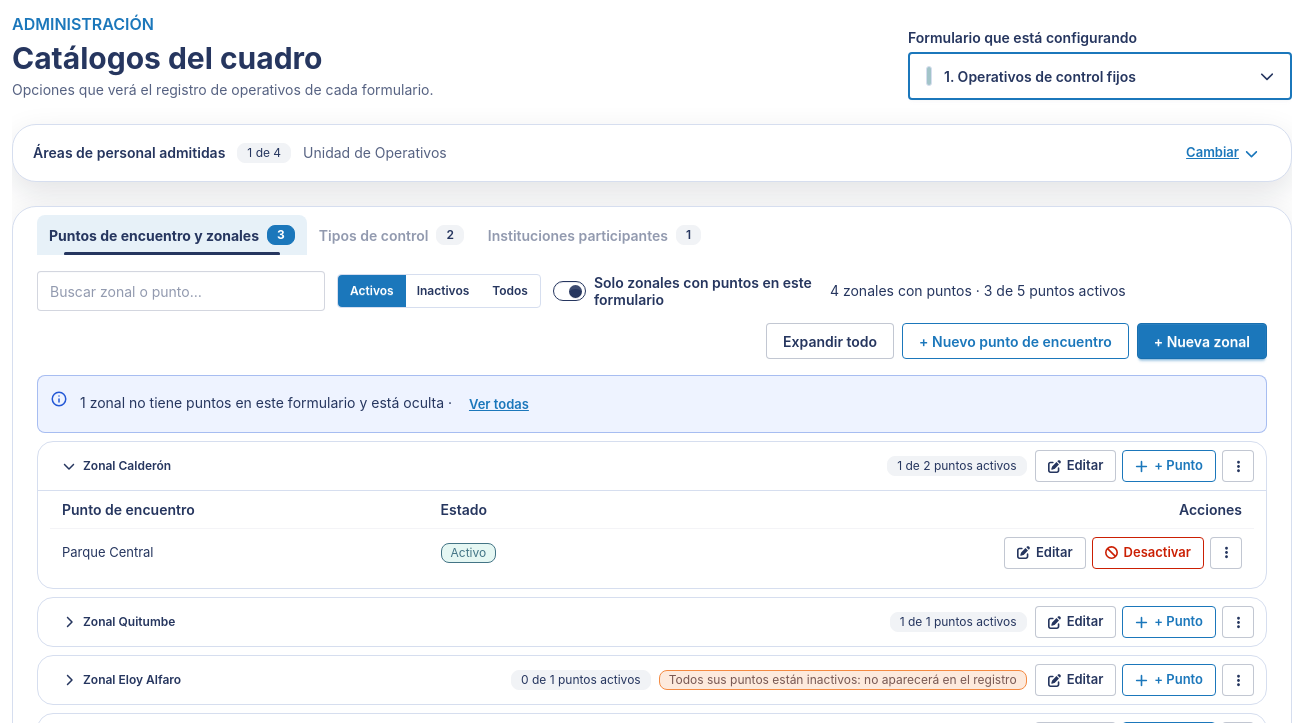
Test: acordeón de zonales › al buscar se abren las zonales con puntos que coinciden
The width and height of the screenshot is (1304, 723).
Expected: the text "Zonal Calderón" is shown, 83,457 -> 171,475
Type "estacion" into the search field labelled "Buscar zonal o punto…" at (181, 291), box 37,271 -> 325,311
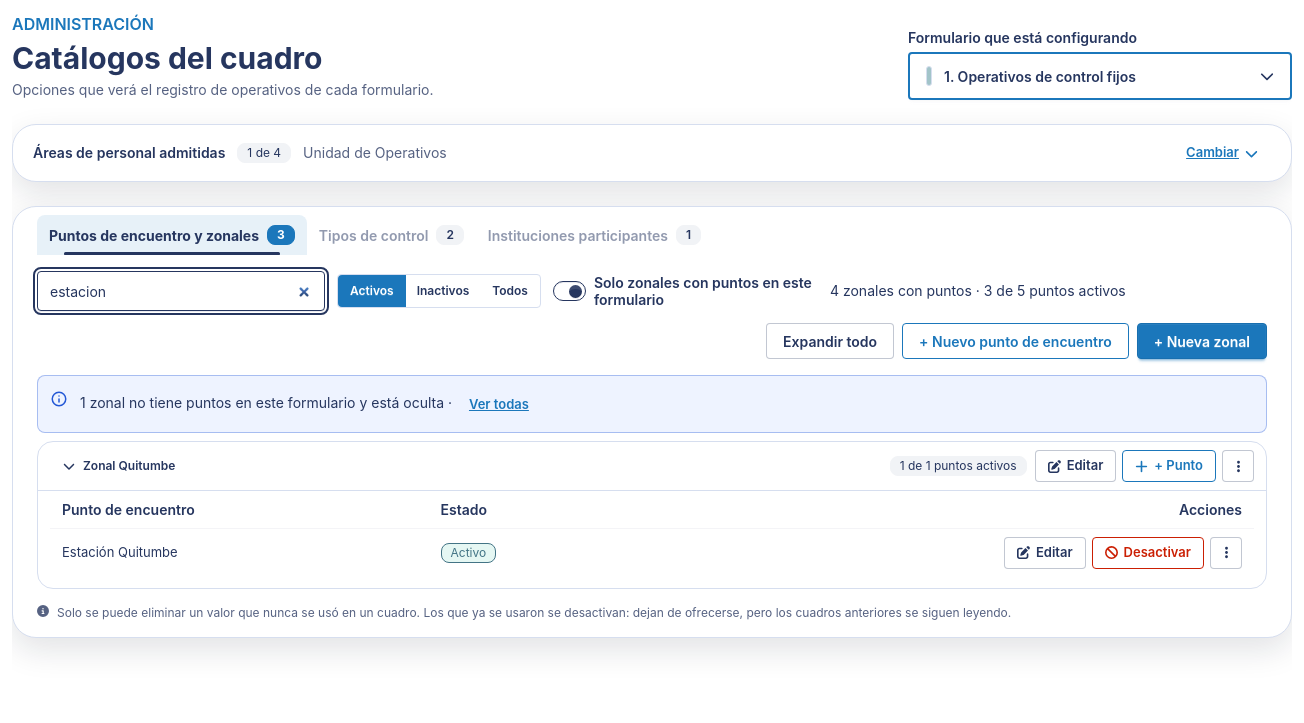
Result: the text "Estación Quitumbe" is shown at 50,529 -> 428,576
